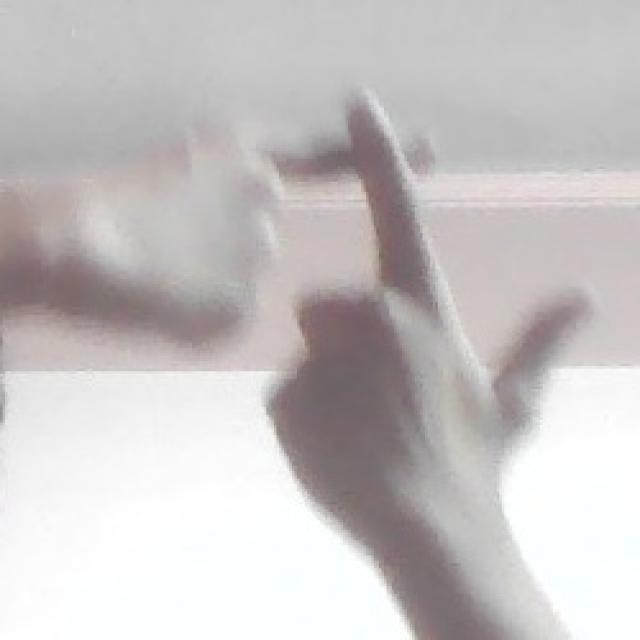Alphabet-J: (59, 87, 594, 538)
